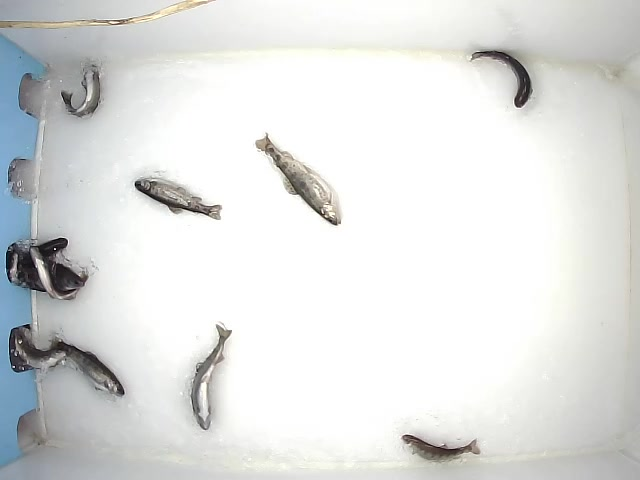fish: (253, 131, 342, 228), (187, 322, 233, 430), (53, 336, 126, 398), (133, 176, 225, 222), (466, 49, 533, 109), (8, 325, 69, 371), (28, 245, 79, 300), (401, 431, 481, 464), (57, 64, 103, 118), (4, 262, 85, 291), (9, 235, 67, 272)
